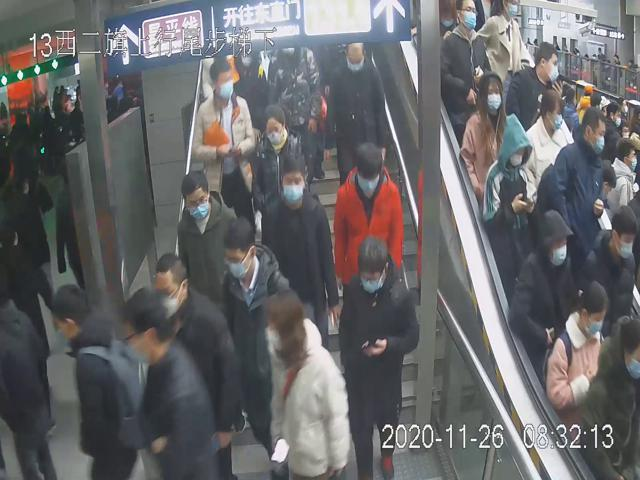person: (338, 233, 422, 480), (222, 214, 293, 473), (262, 286, 351, 478), (261, 156, 341, 350), (332, 139, 403, 298), (190, 56, 255, 222), (323, 39, 390, 193), (176, 170, 240, 302), (439, 0, 492, 147), (461, 70, 509, 198), (252, 104, 307, 214)
